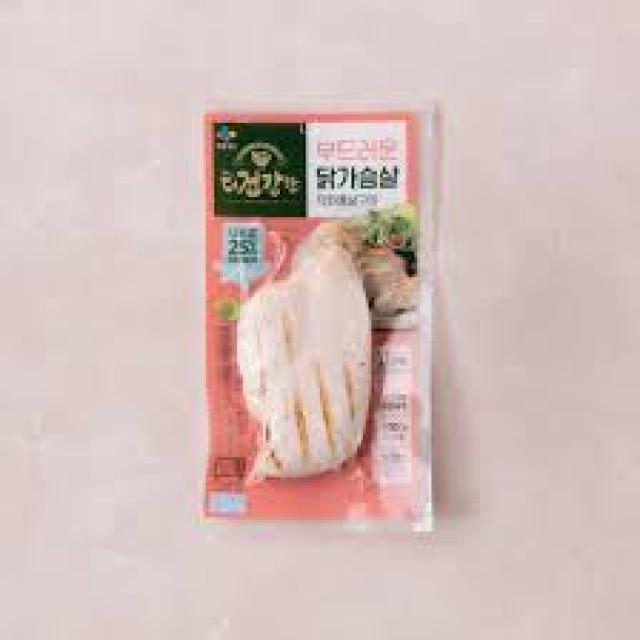chicken: (235, 221, 382, 485)
